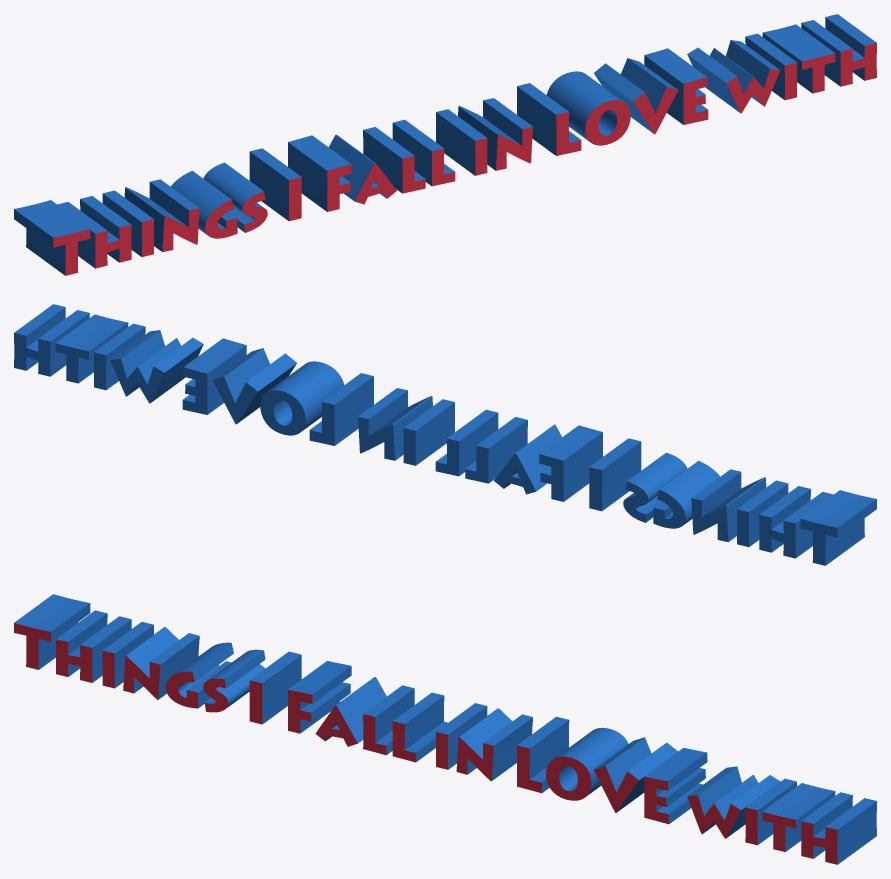
The model's file is things_letter.obj.
3 views of the same model, one above another, from view 1: azimuth 30°, elevation 25°; view 2: azimuth 150°, elevation 25°; view 3: azimuth 330°, elevation 25° (orthographic).
Parts seen in each view (by area): view 1: Text; view 2: Text; view 3: Text.
Part boxes in pixels (<box>): Text: <box>14,14,876,275</box>; Text: <box>14,304,876,565</box>; Text: <box>14,594,876,864</box>.
Size of the model in its own units: 11.52 by 0.6005 by 0.9531.
